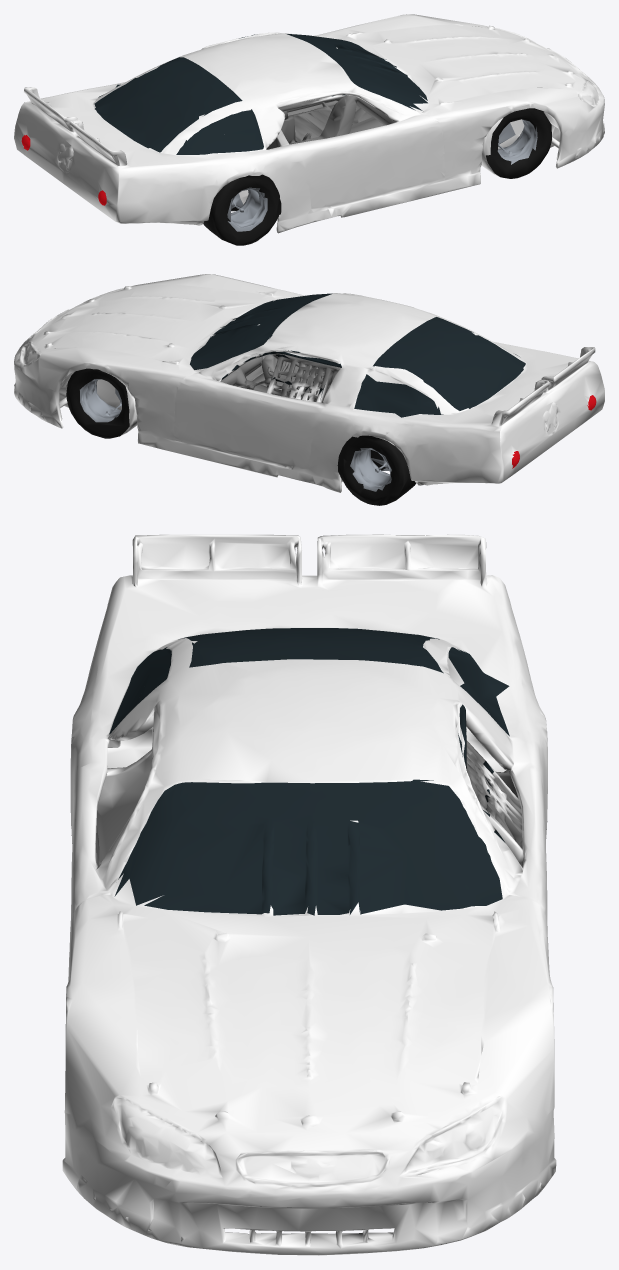
The model's file is car_slm_lod0.glb.
3 renders of one model, top to bottom at view 1: azimuth 30°, elevation 25°; view 2: azimuth 150°, elevation 25°; view 3: azimuth 270°, elevation 25°, orthographic. The views are drawn at different scales.
Visible parts, largest first — view 1: Body, Tire_RL, Tire_FL; view 2: Body, Tire_RR, Tire_FR; view 3: Body.
Part boxes in pixels (bbox=[...]): Body: bbox=[14, 14, 604, 233]; Tire_RL: bbox=[203, 174, 281, 245]; Tire_FL: bbox=[486, 108, 551, 178]; Body: bbox=[14, 274, 604, 492]; Tire_RR: bbox=[337, 435, 416, 505]; Tire_FR: bbox=[66, 368, 129, 438]; Body: bbox=[62, 534, 556, 1255].
Size of the model in its own units: 5.33 by 1.22 by 2.19.
4 materials, 4 textured.
